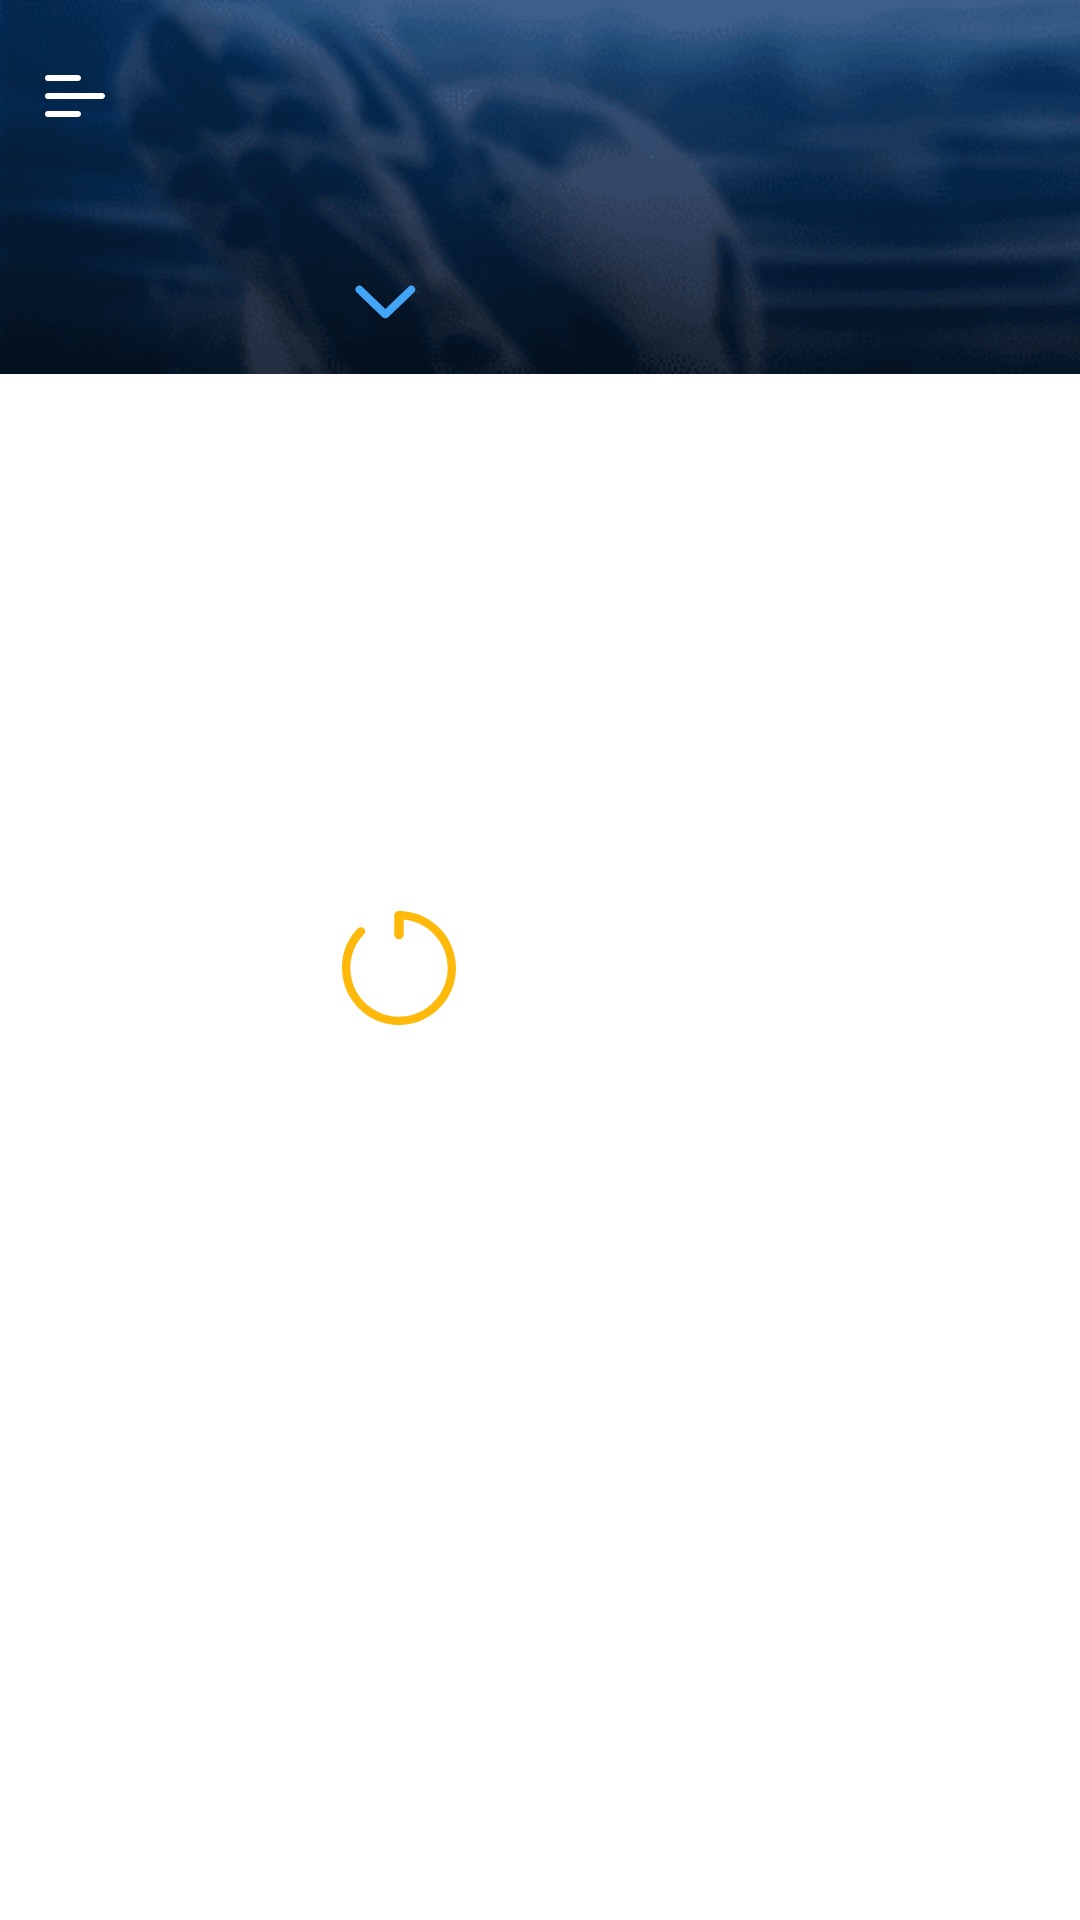

Icons on this 1080×1920 Android screen, each with its box as rect(x1, y1, x2, y2):
hamburger: rect(45, 75, 105, 117)
